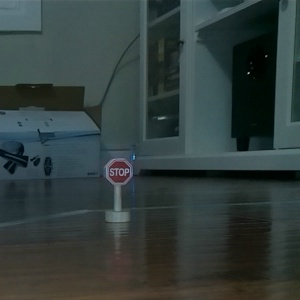stop sign: (101, 156, 134, 225)
